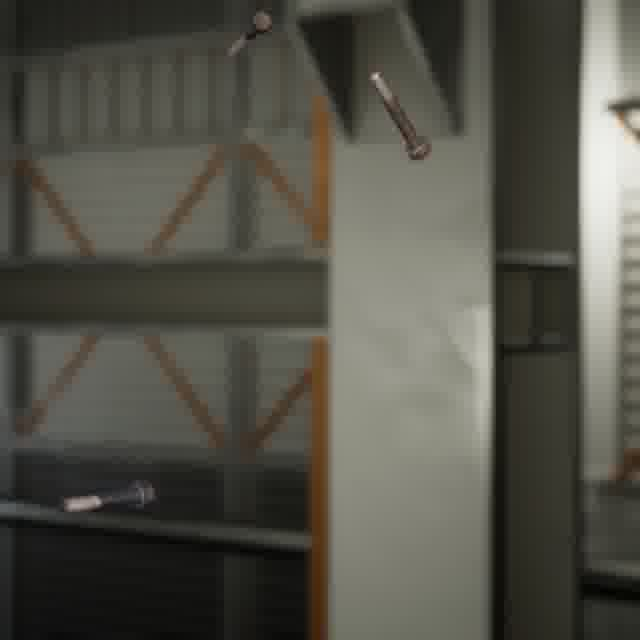bolt: (363, 64, 435, 165), (56, 475, 158, 518), (221, 8, 276, 61)
